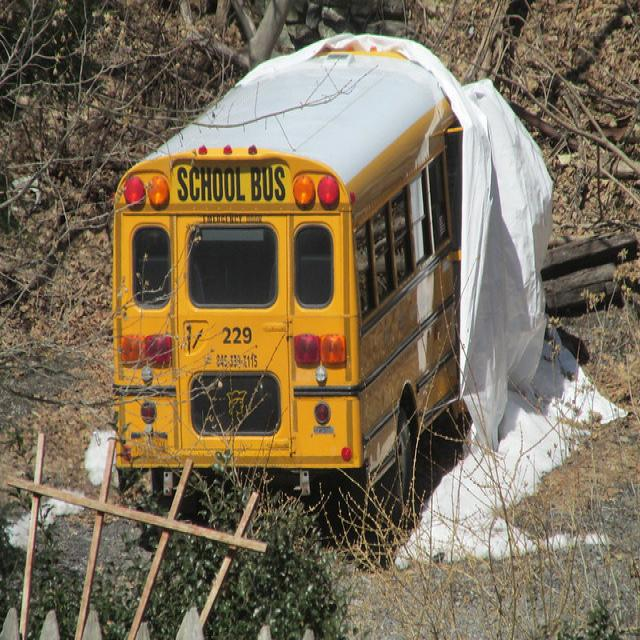Bus: (115, 34, 465, 550)
